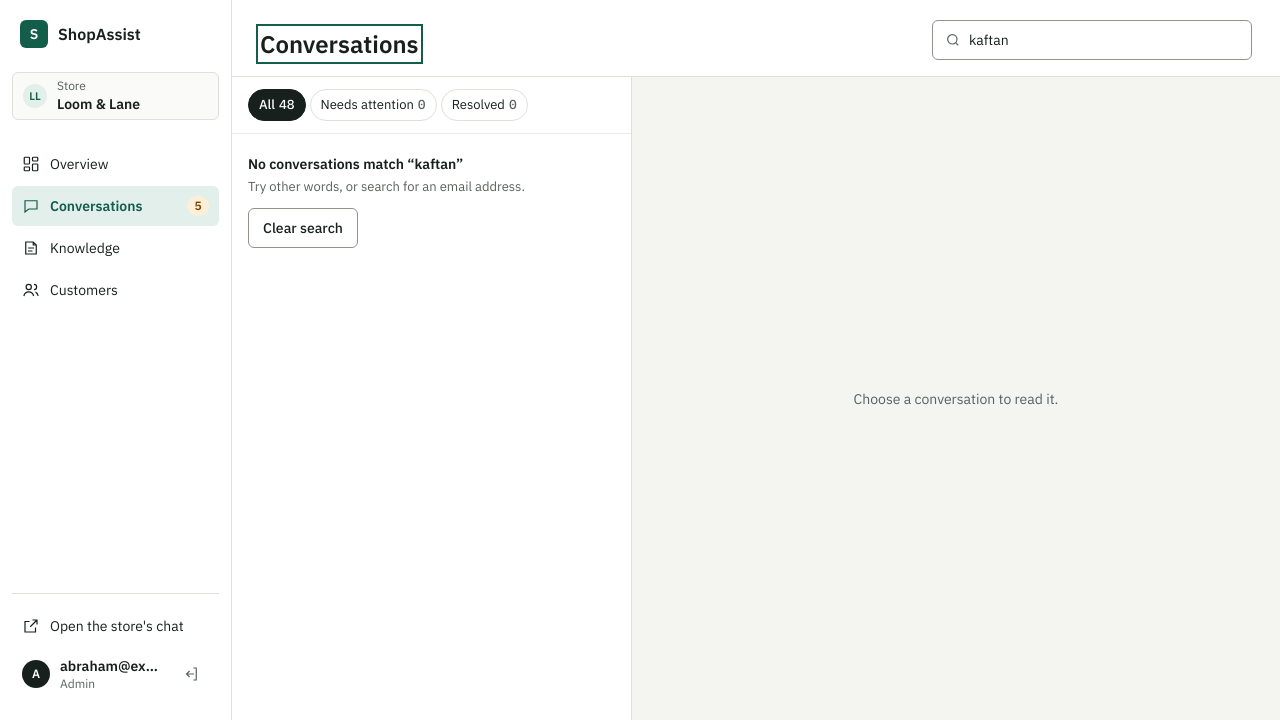
Test: search › no results says so, and offers to clear the search
Expected: the text "No conversations match “kaftan”" is shown, [248,155,463,173]
Step 1. Click the button "Clear search" → (303, 228), box [248,208,358,248]
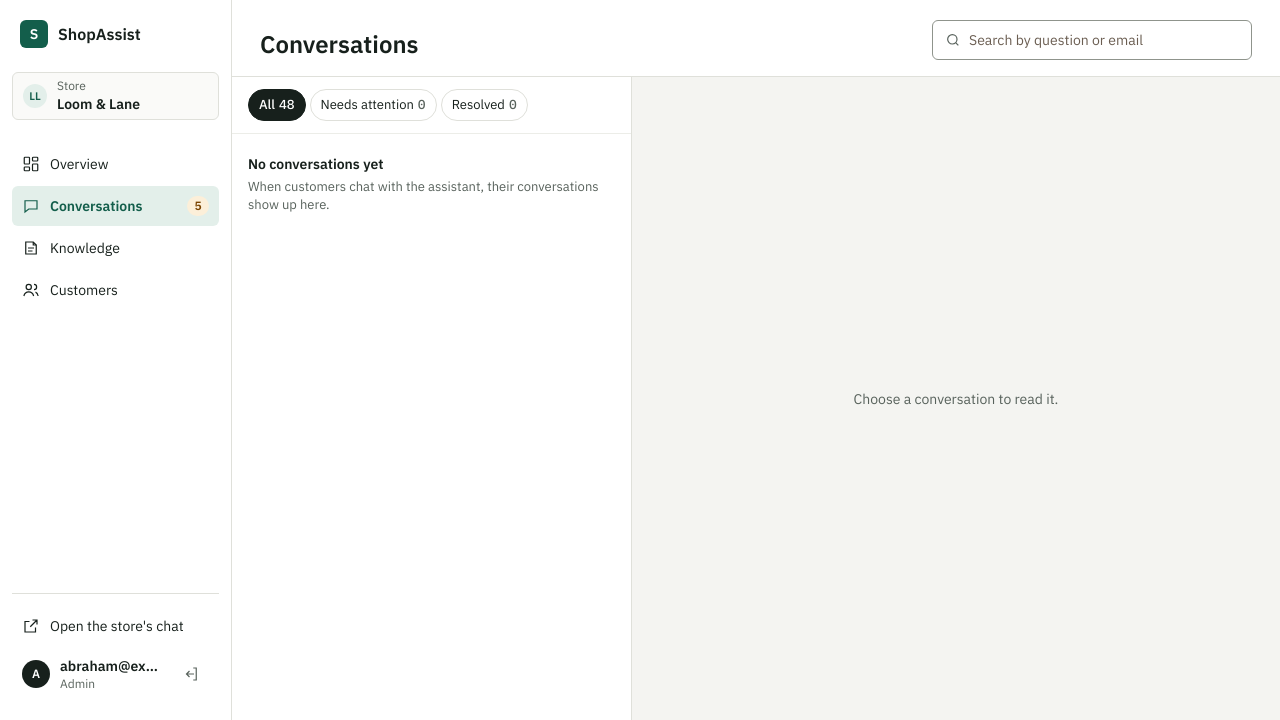
Result: the search field named "Search conversations" is empty at [969,21,1239,59]
